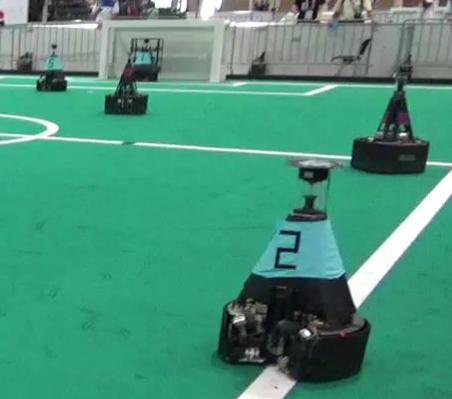robot: (208, 147, 374, 383), (347, 63, 435, 175), (96, 49, 155, 118), (29, 39, 75, 96)
